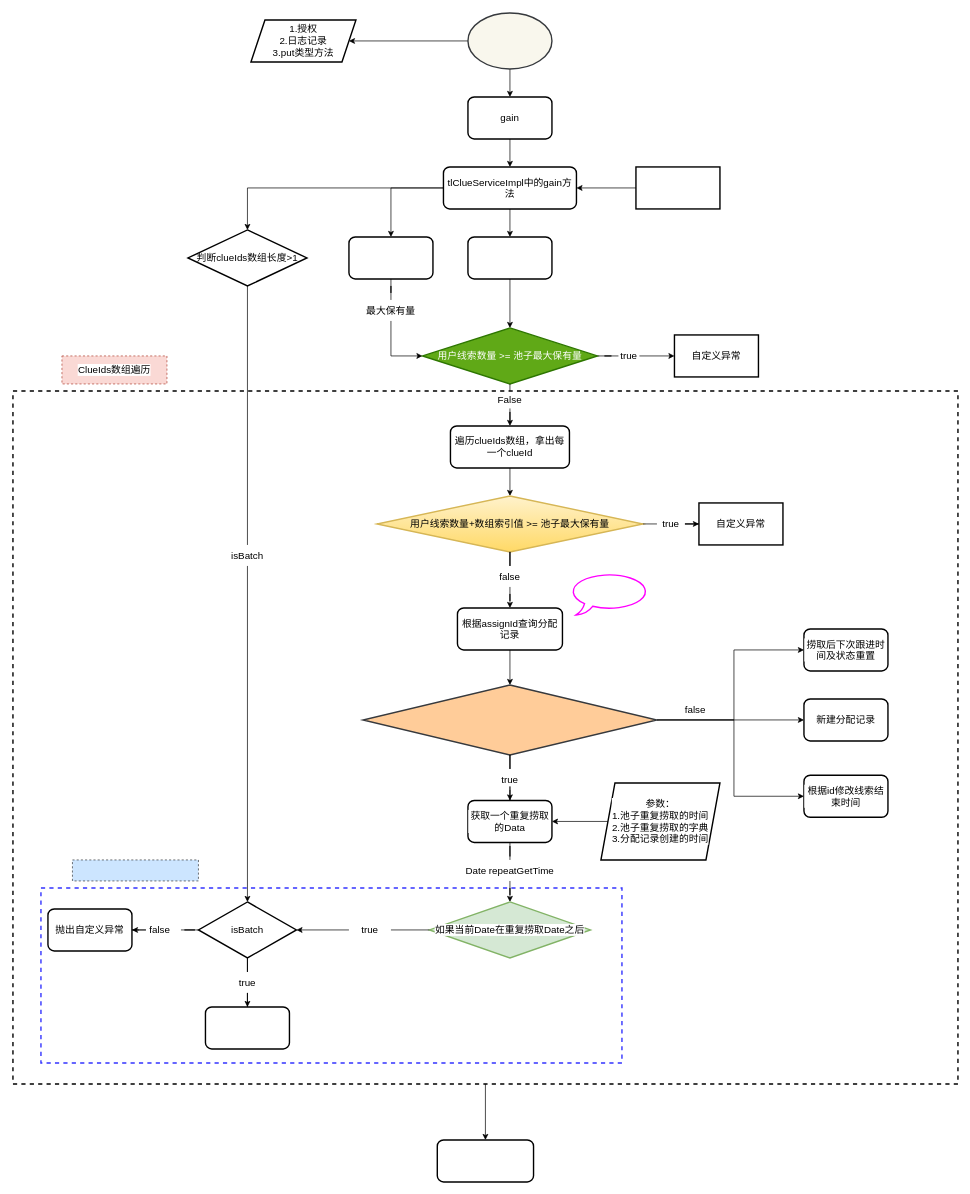
The diagram is 970 pixels wide and 1194 high, and some of its shapes have lost their labels. The centre of each missing label's shape, as x and y in pixels:
"return 全部获取成功" belongs at (485,1160).
"分配记录不为null && 记录的用户id为当前的userId" belongs at (509,719).
"参数：clueIds数组,userId" belongs at (677,187).
"开始" belongs at (509,40).
"批量捞取跳过" belongs at (247,1027).
"捞取限制时间内，不让捞取" belongs at (135,870).
"最近捞取记录" belongs at (609,593).
"查询对应线索池" belongs at (390,257).
"根据userId统计其拥有的线索数量" belongs at (509,257).
